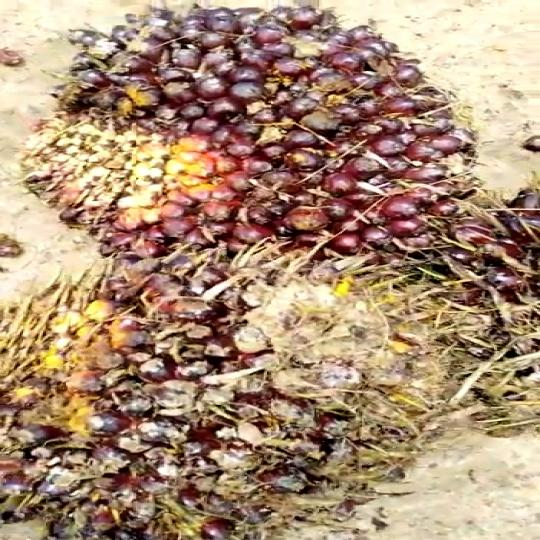kurang masak: (0, 252, 436, 539), (25, 0, 474, 263)
